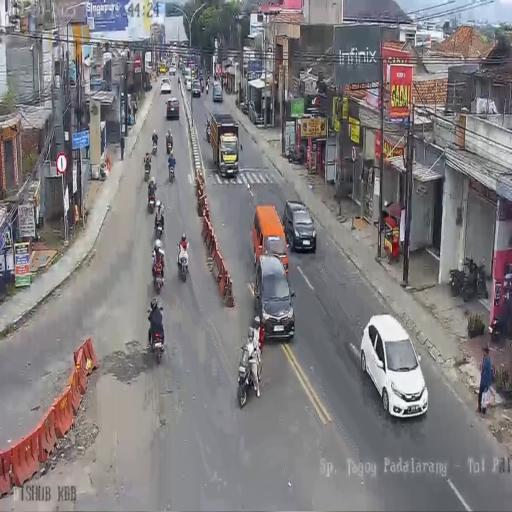car: (359, 314, 427, 417), (254, 255, 296, 339), (283, 198, 317, 253), (247, 99, 262, 124), (166, 97, 179, 119), (212, 81, 222, 102), (160, 78, 171, 94), (192, 79, 201, 97), (160, 62, 167, 74), (186, 77, 192, 90), (180, 65, 186, 78), (169, 65, 176, 75), (191, 69, 196, 79)
motorcycle: (238, 340, 262, 408), (490, 290, 512, 342), (149, 314, 165, 366), (177, 246, 189, 282), (285, 142, 303, 165), (450, 268, 464, 296), (153, 260, 165, 292), (154, 210, 164, 240), (147, 186, 155, 212), (168, 160, 175, 183), (205, 118, 211, 143), (151, 138, 158, 157), (144, 160, 150, 182), (206, 79, 210, 93), (177, 77, 180, 88)
truck: (207, 111, 238, 178), (145, 51, 152, 73)
